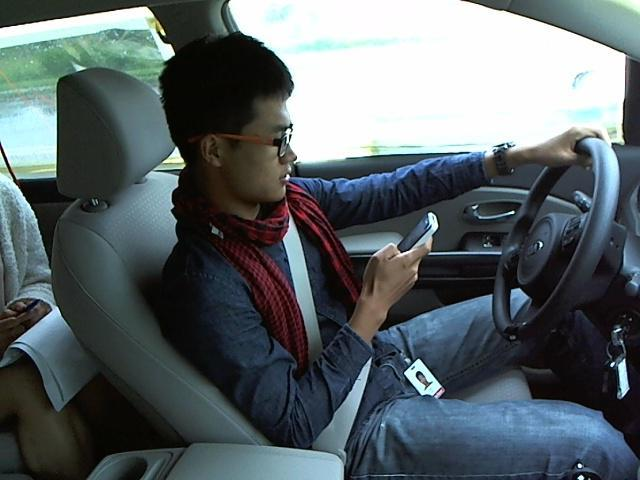PhoneUse: (382, 204, 440, 273)
